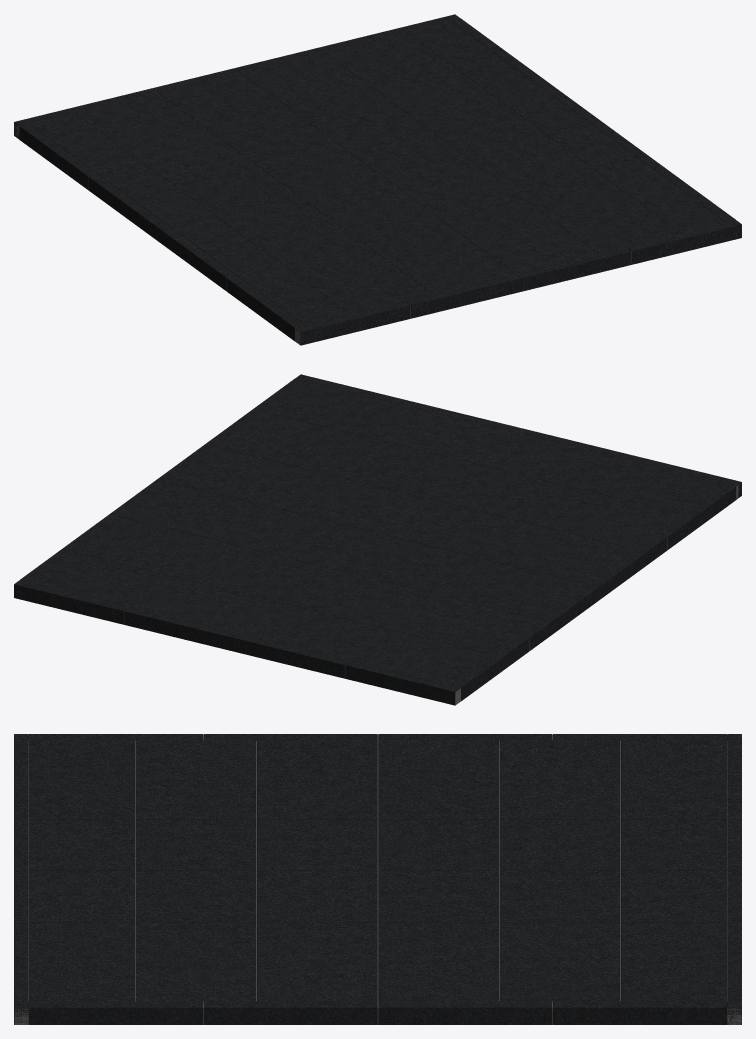
File: floor-black-large.glb
The picture shows the model from 3 angles, top to bottom: view 1: azimuth 30°, elevation 25°; view 2: azimuth 150°, elevation 25°; view 3: azimuth 270°, elevation 25°; orthographic projection. The views are drawn at different scales.
Parts seen in each view (by area): view 1: Stone_field_black, Stone_edge_black; view 2: Stone_field_black, Stone_edge_black; view 3: Stone_field_black, Stone_edge_black, Joint_and_bedding_black.
Part boxes in pixels (x1,y1,x2,y2): Stone_field_black: (30,21,725,325); Stone_edge_black: (14,14,741,345); Stone_field_black: (30,381,725,685); Stone_edge_black: (14,374,741,705); Stone_field_black: (29,740,726,1001); Stone_edge_black: (14,734,741,1024); Joint_and_bedding_black: (14,734,741,1024).
Bounding box in the file's own units: 3.2 × 0.096 × 3.6.
Materials: 3 (2 with a texture image).
